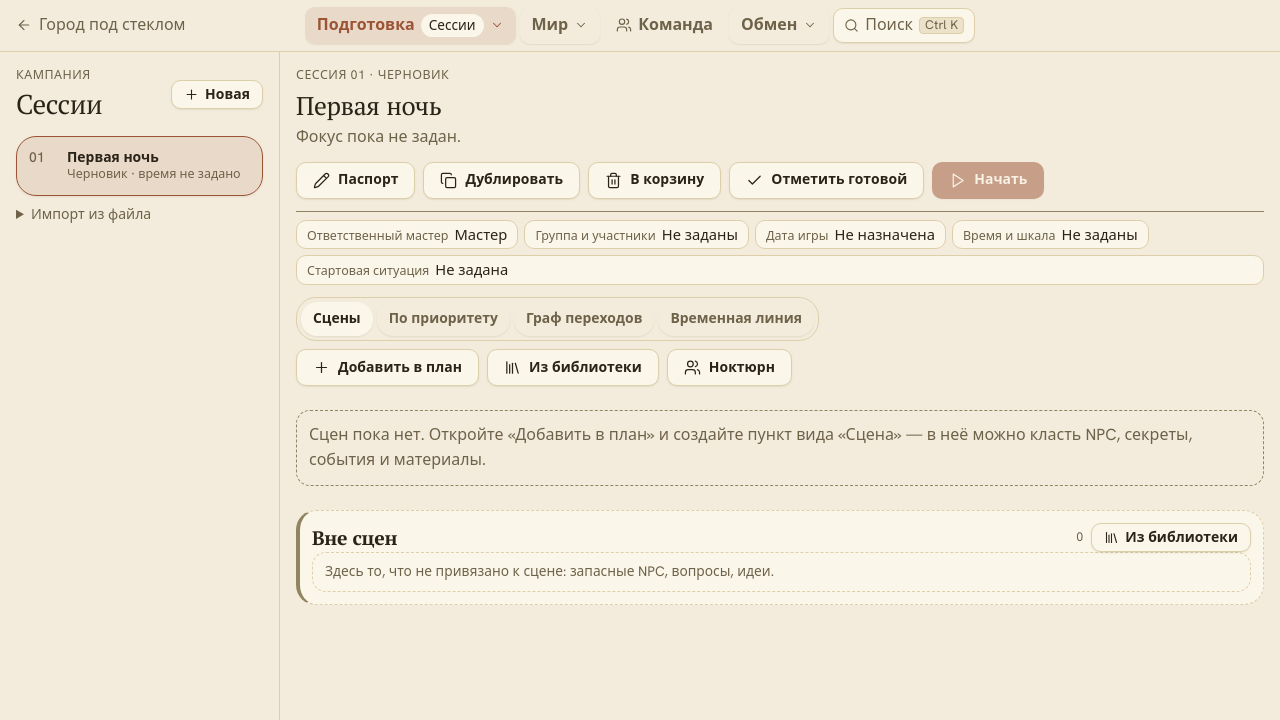
Test: Ноктюрн у плана сессии › панель показывает партию треками, районы, заявки на опыт и хронику
Click the button "Ноктюрн" at (729, 368), box [667,349,792,386]
(page scrolled)
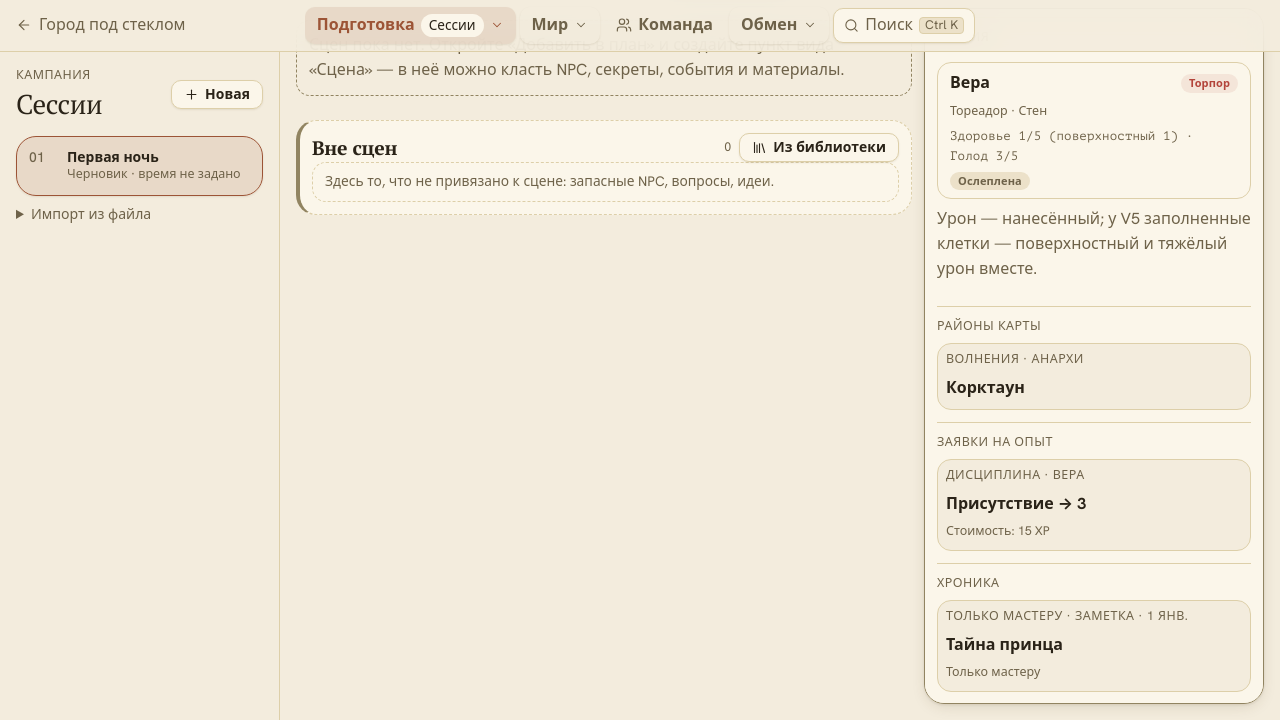
Result: the text "Здоровье 1/5 (поверхностный 1) · Голод 3/5" is shown at [950,129,1193,163]
Result: the text "Торпор" is shown at [1181,74,1238,93]
Result: the text "Корктаун" is shown at [946,377,1025,398]
